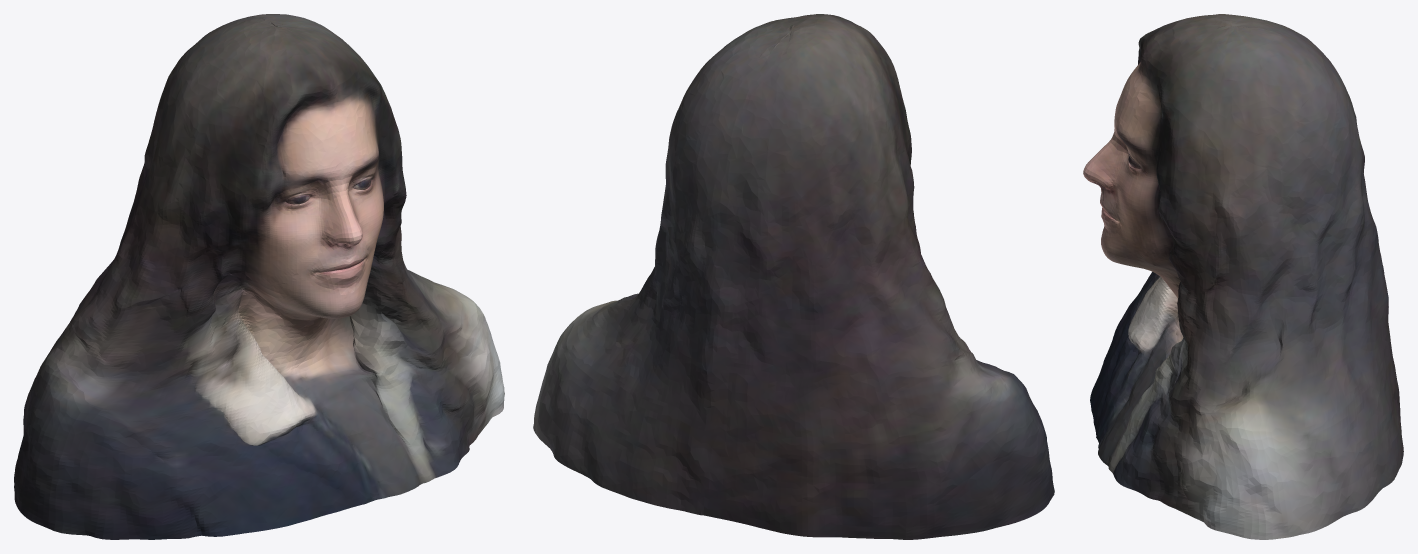
Rendered from jorge.glb.
3 renders of one model, left to right at view 1: azimuth 30°, elevation 25°; view 2: azimuth 150°, elevation 25°; view 3: azimuth 270°, elevation 25°, orthographic. The views are drawn at different scales.
Parts seen in each view (by area): view 1: Node1; view 2: Node1; view 3: Node1.
Boxes of the visible parts, bbox=[...] form: Node1: bbox=[14, 14, 504, 539]; Node1: bbox=[533, 14, 1054, 539]; Node1: bbox=[1083, 14, 1403, 539].
Size of the model in its own units: 0.4488 by 0.3761 by 0.2688.
1 material, 1 textured.
